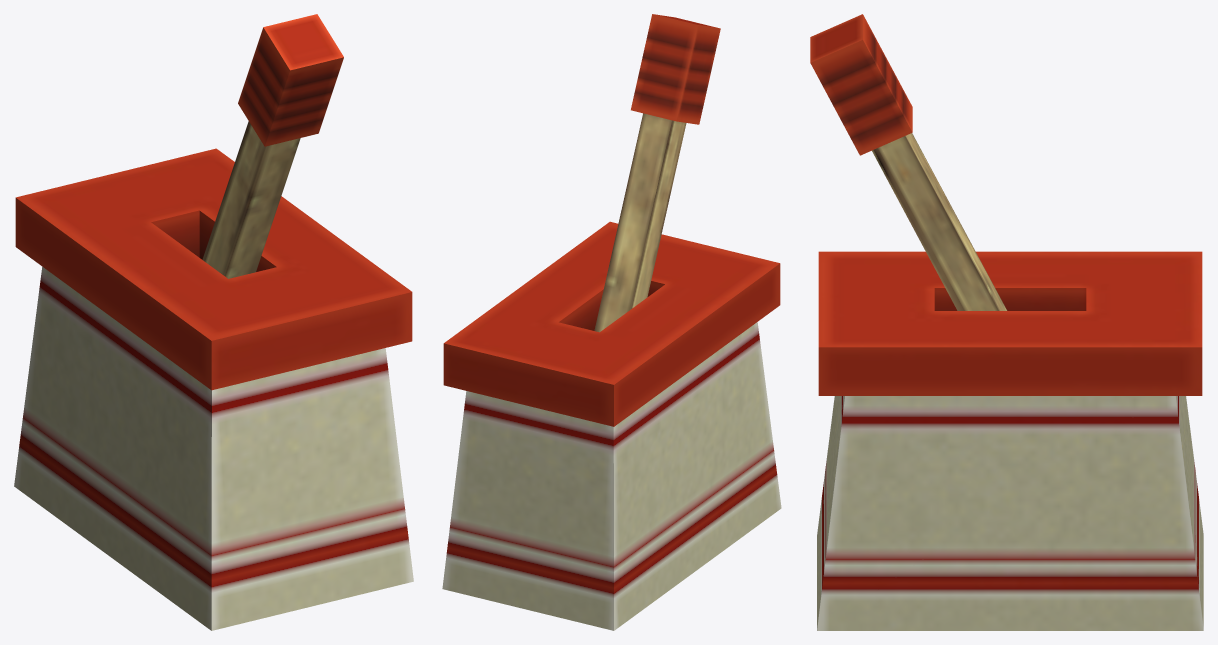
The model's file is GroundLever.fbx.
The picture shows the model from 3 angles, left to right: view 1: azimuth 30°, elevation 25°; view 2: azimuth 150°, elevation 25°; view 3: azimuth 270°, elevation 25°; orthographic projection. The views are drawn at different scales.
Visible parts, largest first — view 1: soporte_palanca, palo_palanca; view 2: soporte_palanca, palo_palanca; view 3: soporte_palanca, palo_palanca.
Part boxes in pixels (left/top/right/bottom): soporte_palanca: left=14, top=148, right=413, bottom=630; palo_palanca: left=202, top=14, right=343, bottom=278; soporte_palanca: left=442, top=221, right=781, bottom=630; palo_palanca: left=594, top=14, right=720, bottom=332; soporte_palanca: left=817, top=251, right=1203, bottom=630; palo_palanca: left=810, top=14, right=1007, bottom=310.
Size of the model in its own units: 7.56 by 20.28 by 13.
